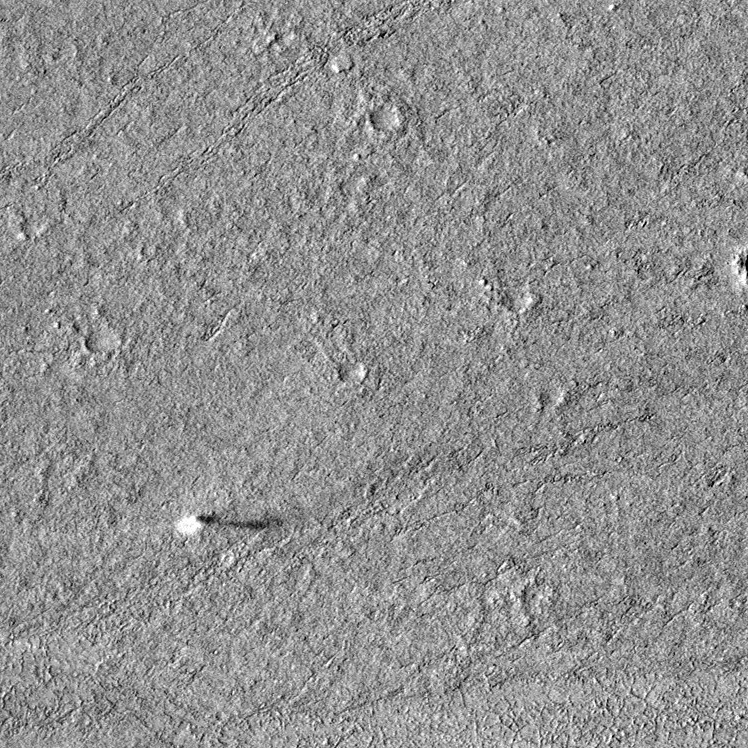dust_devil: (173, 511, 273, 538)
